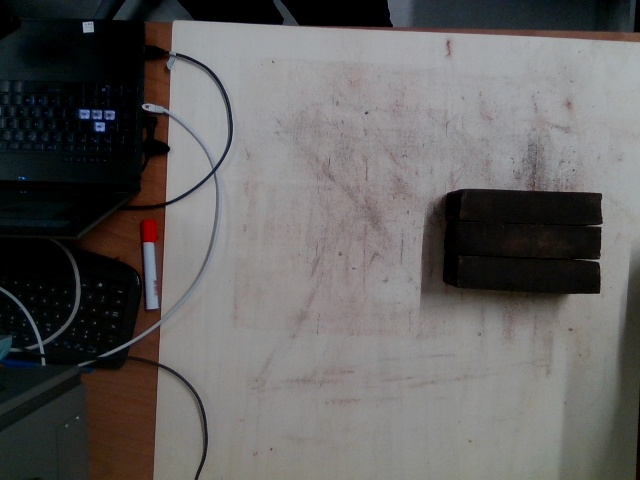brick-side: (460, 256, 597, 294), (462, 189, 599, 226), (459, 222, 595, 259)
